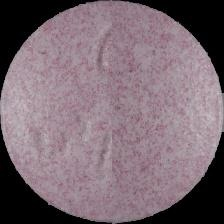66336-604: (0, 0, 224, 224)
